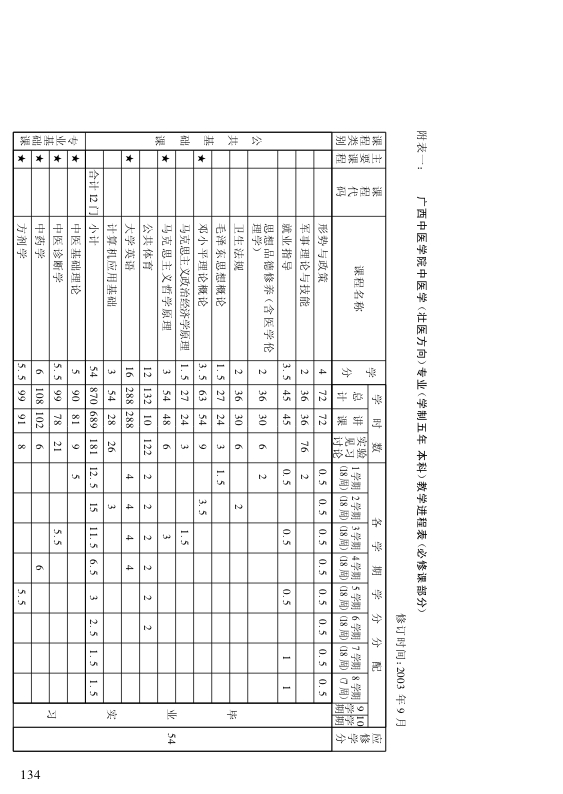table: (12, 131, 386, 752)
